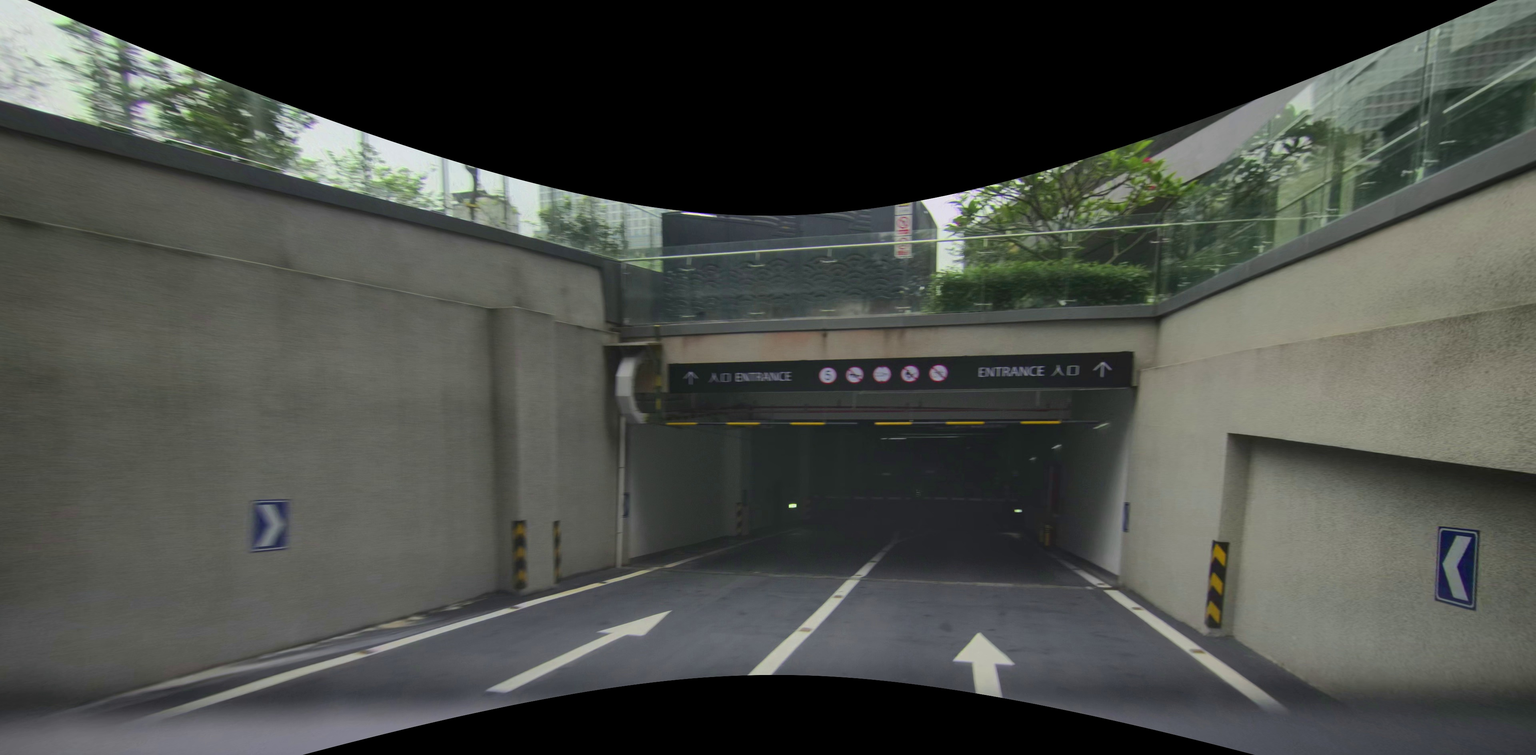5: (820, 367, 835, 385)
ENTRANCE: (977, 365, 1045, 379), (735, 372, 794, 383)
entry_and_exit: (977, 361, 1081, 380), (709, 369, 795, 384)
上: (486, 602, 672, 694), (950, 629, 1015, 697), (1092, 361, 1112, 376), (682, 368, 699, 383)
入口: (1052, 362, 1081, 379), (710, 371, 731, 383)
右: (252, 503, 284, 545)
左: (1433, 527, 1480, 607)
